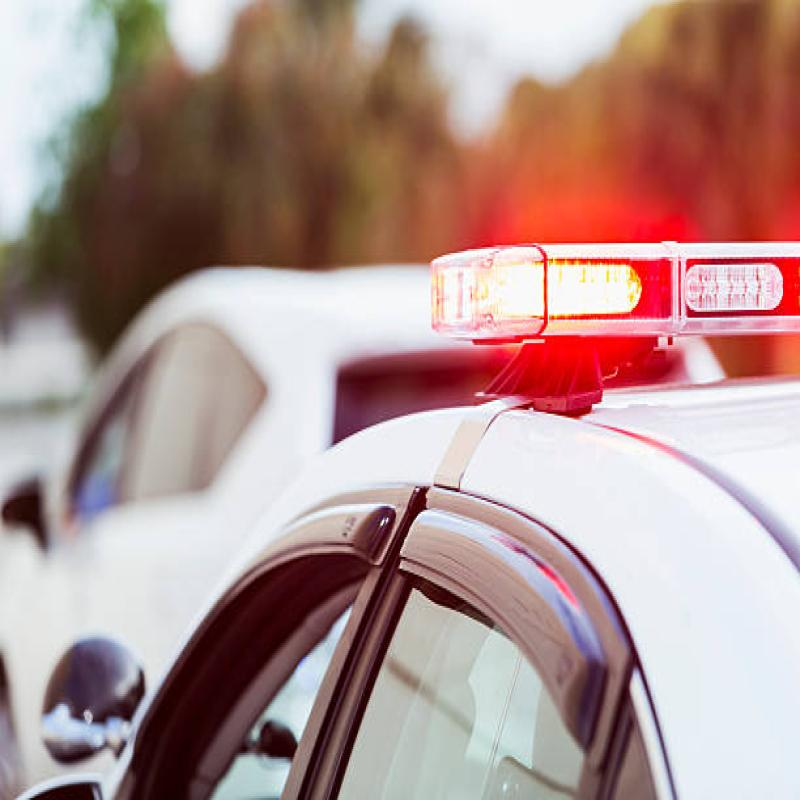AmbulanceSiren: (409, 159, 800, 408)
